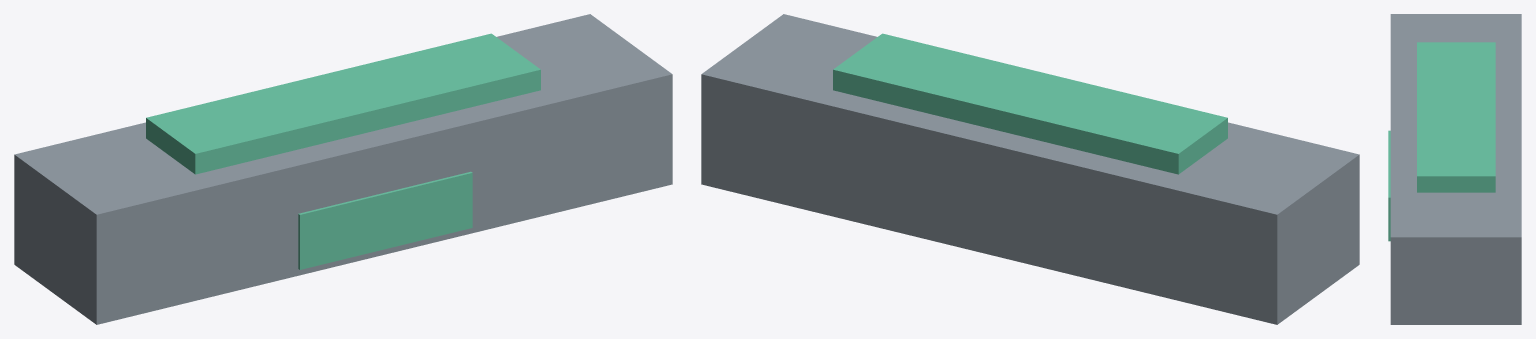
The model's file is CO_SamudraCarrier_LOD0.glb.
3 views of the same model, side by side, from view 1: azimuth 30°, elevation 25°; view 2: azimuth 150°, elevation 25°; view 3: azimuth 270°, elevation 25° (orthographic). The views are drawn at different scales.
Parts seen in each view (by area): view 1: EntranceGate; view 2: EntranceGate; view 3: EntranceGate.
Part boxes in pixels (x1,y1,x2,y2): EntranceGate: (14, 14, 672, 324); EntranceGate: (701, 14, 1359, 324); EntranceGate: (1388, 14, 1521, 324).
Bounding box in the file's own units: 2100 × 456 × 530.
